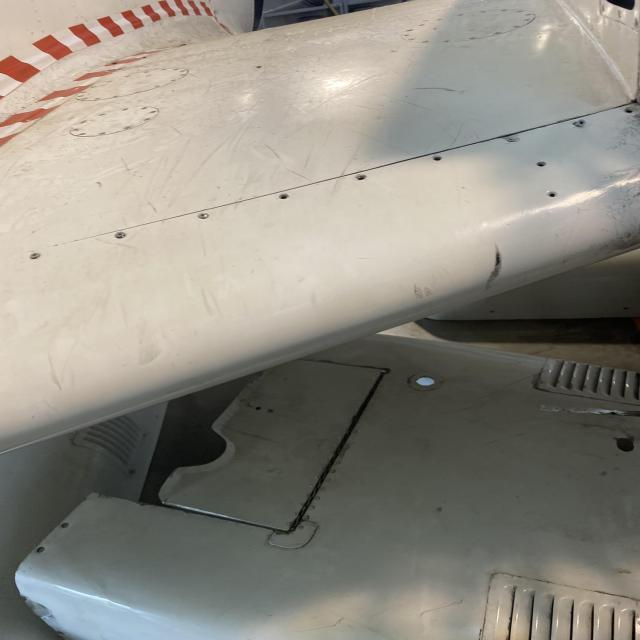Fastener Damage: (276, 191, 292, 202), (428, 154, 449, 162), (356, 172, 368, 184), (544, 190, 558, 200), (534, 160, 550, 168), (622, 107, 636, 115)
